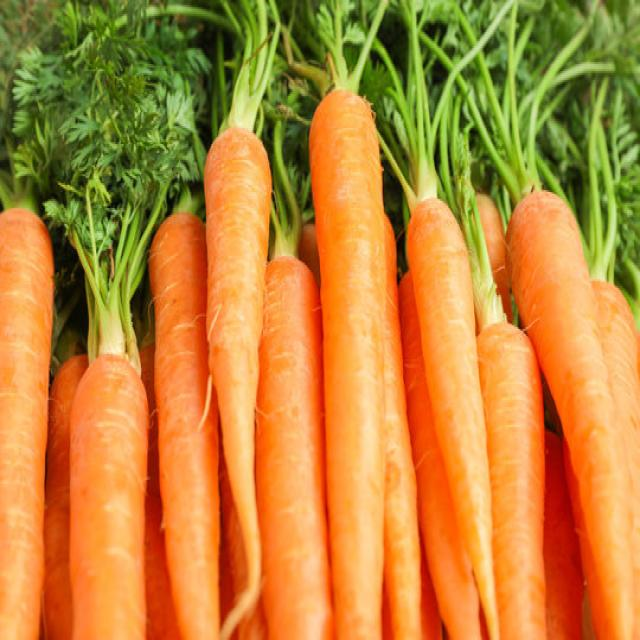Carrot: (376, 109, 500, 638), (503, 185, 638, 638), (202, 32, 274, 638), (308, 86, 386, 638), (397, 267, 482, 638), (147, 210, 220, 638), (255, 252, 333, 638), (0, 204, 55, 638), (68, 350, 150, 638), (476, 320, 546, 638), (589, 277, 639, 638), (382, 210, 422, 638), (43, 352, 89, 638), (137, 342, 179, 638), (544, 427, 583, 638)
